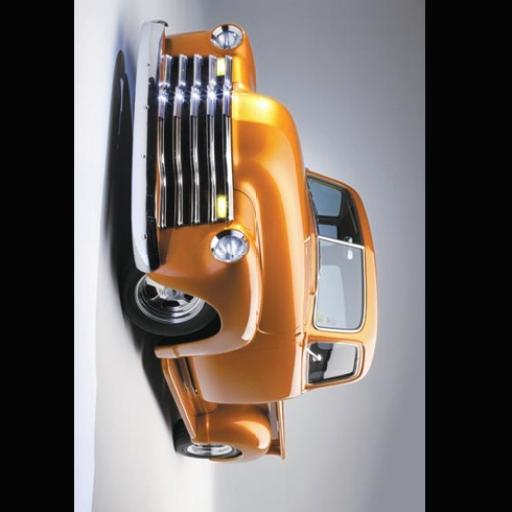truck: (122, 23, 376, 461)
